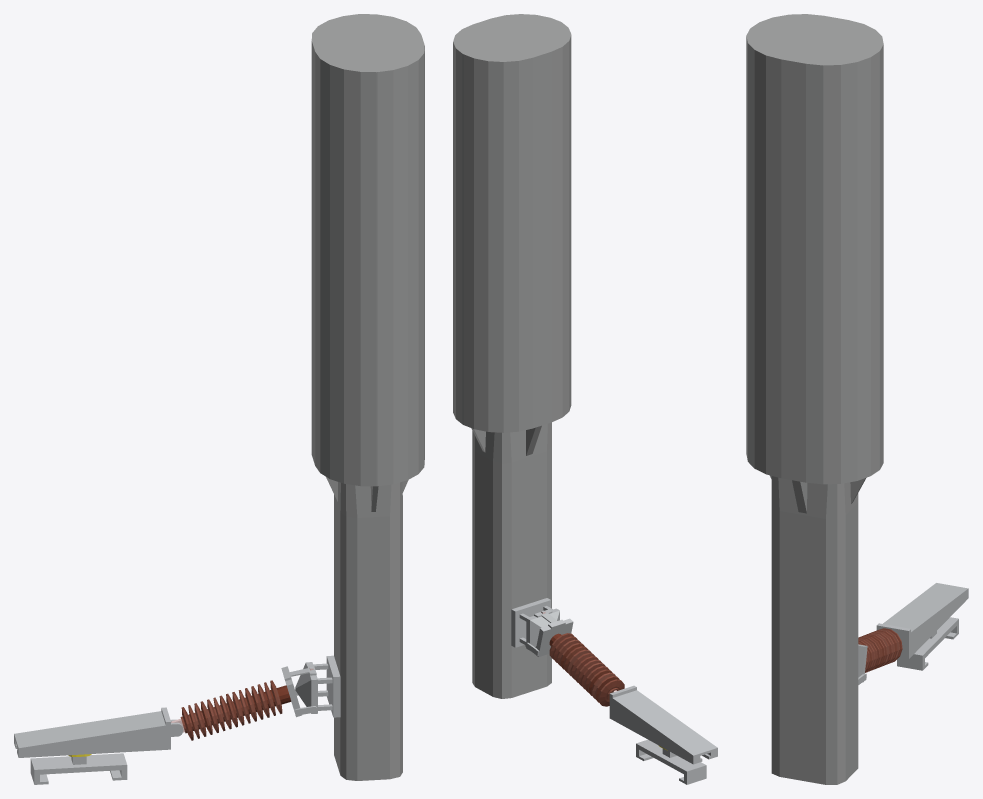
Rendered from catenary_rigid_end_hs_r.obj.
The picture shows the model from 3 angles, left to right: view 1: azimuth 30°, elevation 25°; view 2: azimuth 150°, elevation 25°; view 3: azimuth 270°, elevation 25°; orthographic projection. The views are drawn at different scales.
Parts seen in each view (by area): view 1: 1.002; view 2: 1.002; view 3: 1.002.
Boxes of the visible parts, box(x1,y1,x2,y2) form: 1.002: box(14, 14, 424, 784); 1.002: box(453, 14, 717, 784); 1.002: box(746, 14, 968, 784).
Size of the model in its own units: 0.8958 by 1.8 by 0.4984.
1 material, 1 textured.
